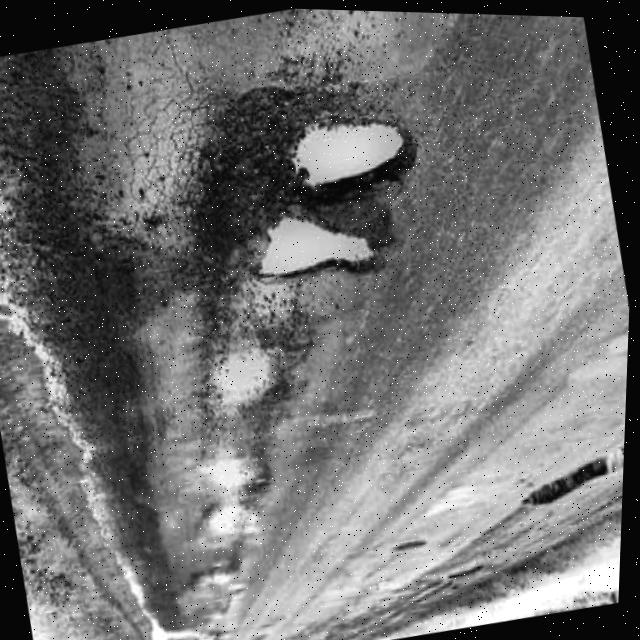Pothole: (257, 80, 446, 232), (239, 180, 400, 312), (189, 319, 321, 451), (185, 489, 277, 565), (197, 445, 280, 507), (190, 561, 246, 595)
